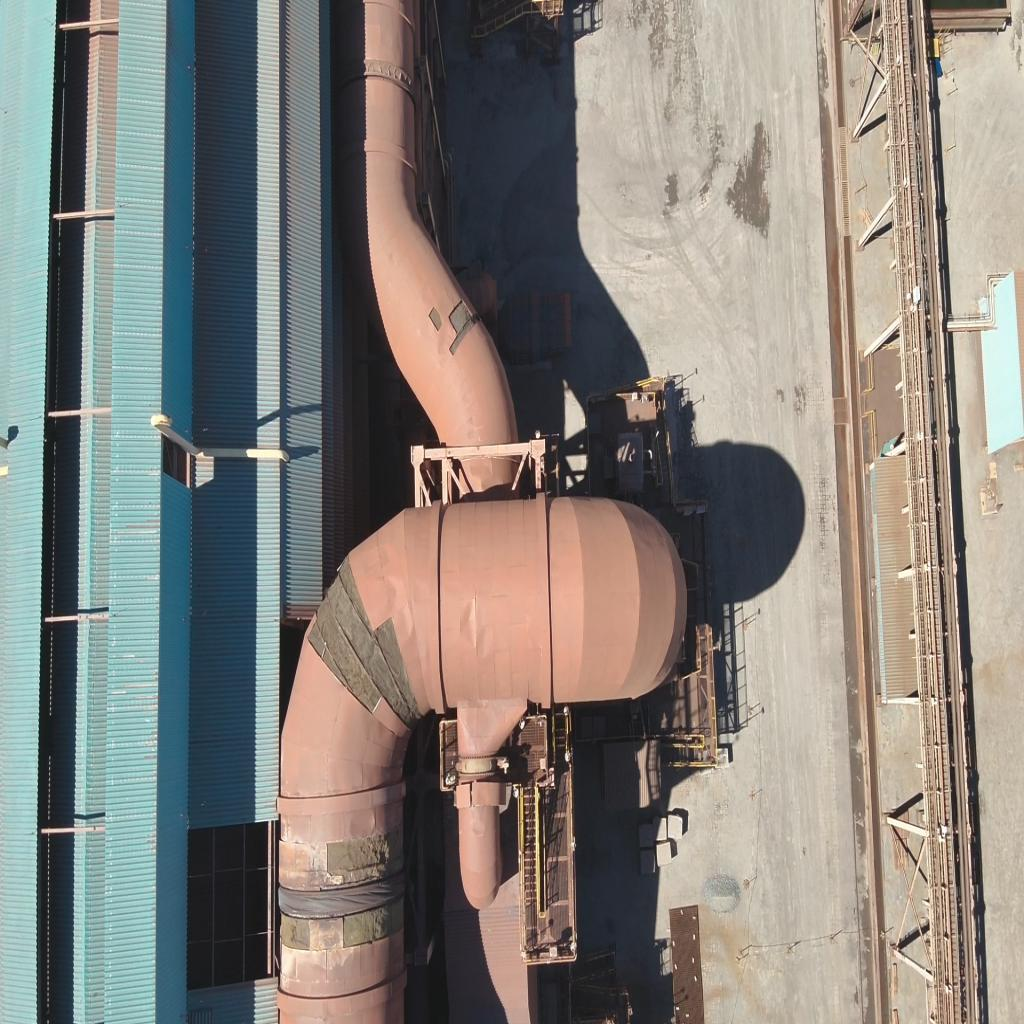Failures: (306, 558, 423, 728), (329, 831, 406, 877), (342, 902, 410, 940), (443, 296, 481, 358), (279, 908, 314, 958), (428, 300, 442, 334)
